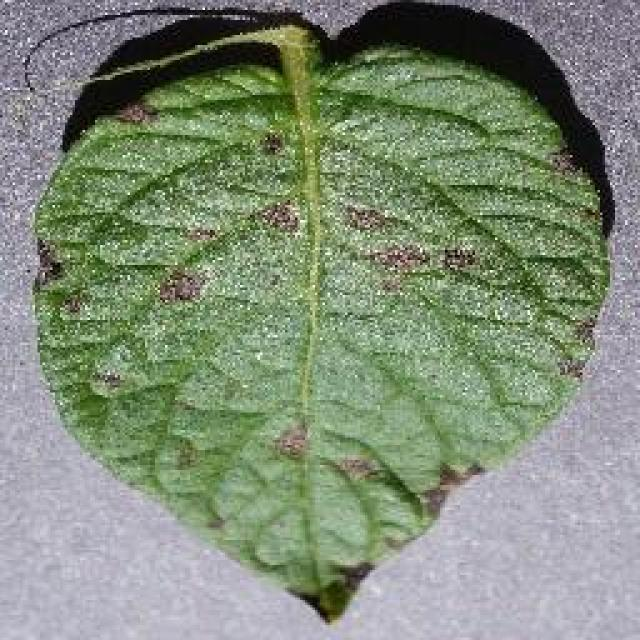Potato___Early_blight: (18, 21, 609, 630)
